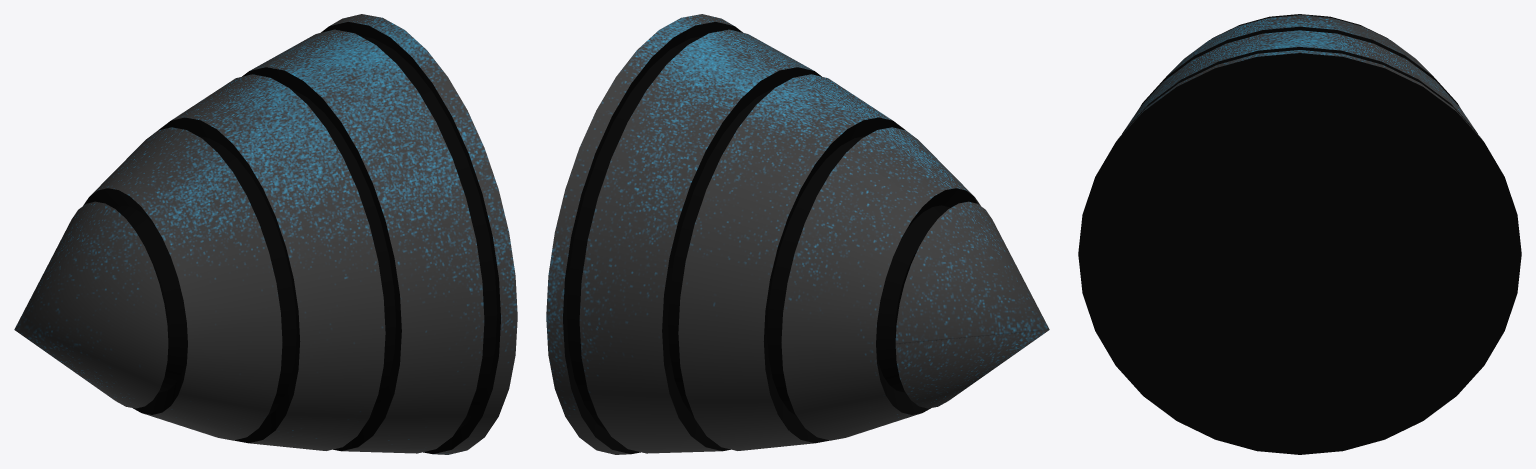
Rendered from Boor.fbx.
3 renders of one model, left to right at view 1: azimuth 30°, elevation 25°; view 2: azimuth 150°, elevation 25°; view 3: azimuth 270°, elevation 25°, orthographic.
Visible parts, largest first — view 1: Boor; view 2: Boor; view 3: Boor.
Boxes of the visible parts, x1,y1,x2,y2 form: Boor: [14, 14, 517, 454]; Boor: [546, 14, 1049, 454]; Boor: [1078, 14, 1521, 454].
Size of the model in its own units: 109 by 109 by 109.
